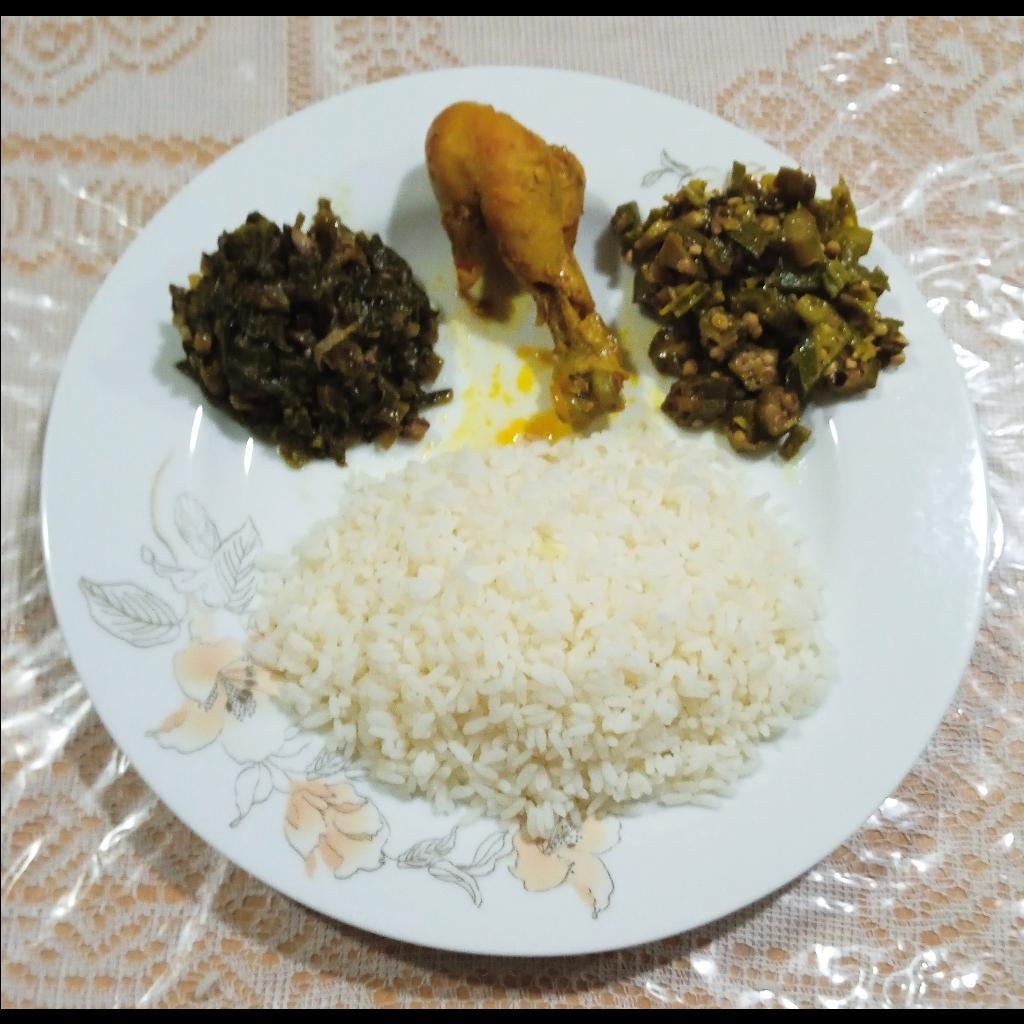chicken: (423, 96, 630, 428)
okra: (611, 159, 914, 459)
rice: (245, 422, 832, 843)
shak: (170, 198, 453, 470)
